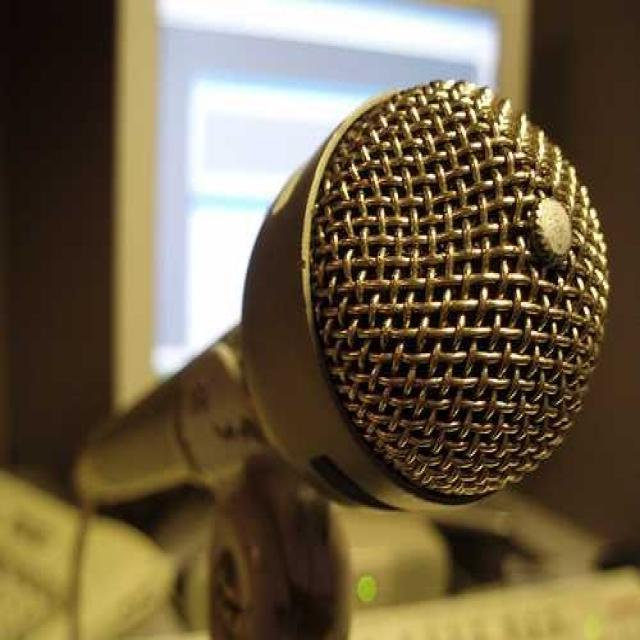microphone: (241, 81, 625, 498)
